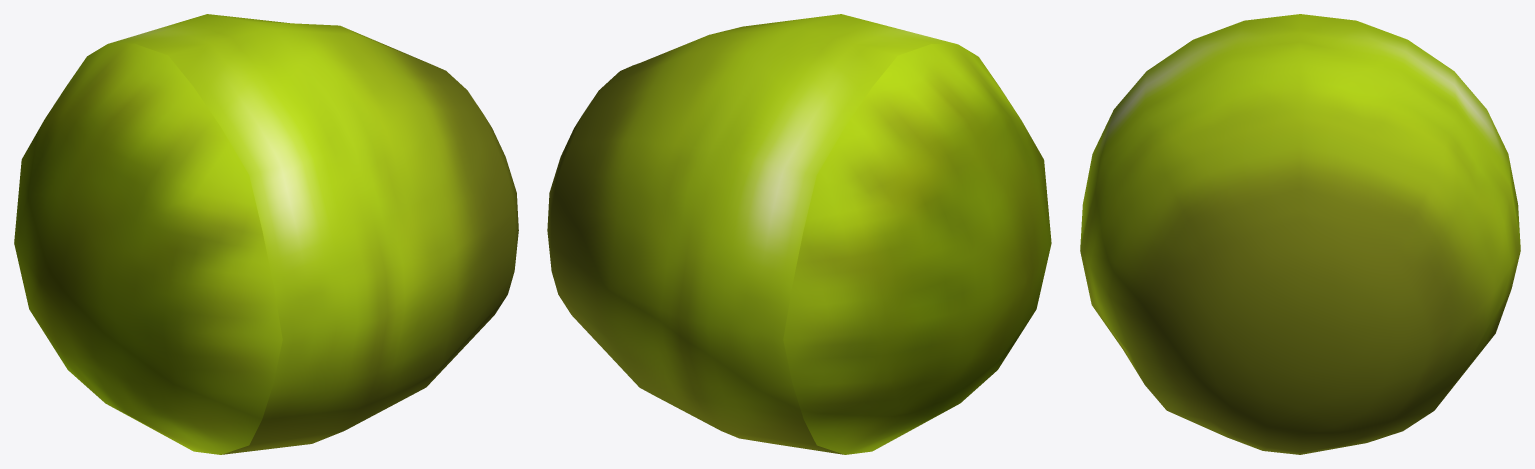
Rendered from worm2.obj.
3 views of the same model, side by side, from view 1: azimuth 30°, elevation 25°; view 2: azimuth 150°, elevation 25°; view 3: azimuth 270°, elevation 25° (orthographic). The views are drawn at different scales.
Parts seen in each view (by area): view 1: ColobotMesh_1_ColobotMesh_; view 2: ColobotMesh_1_ColobotMesh_; view 3: ColobotMesh_1_ColobotMesh_.
Part boxes in pixels (x1,y1,x2,y2): ColobotMesh_1_ColobotMesh_: [14, 14, 518, 454]; ColobotMesh_1_ColobotMesh_: [547, 14, 1051, 454]; ColobotMesh_1_ColobotMesh_: [1080, 14, 1520, 454].
Bounding box in the file's own units: 2.25 × 1.89 × 2.02.
